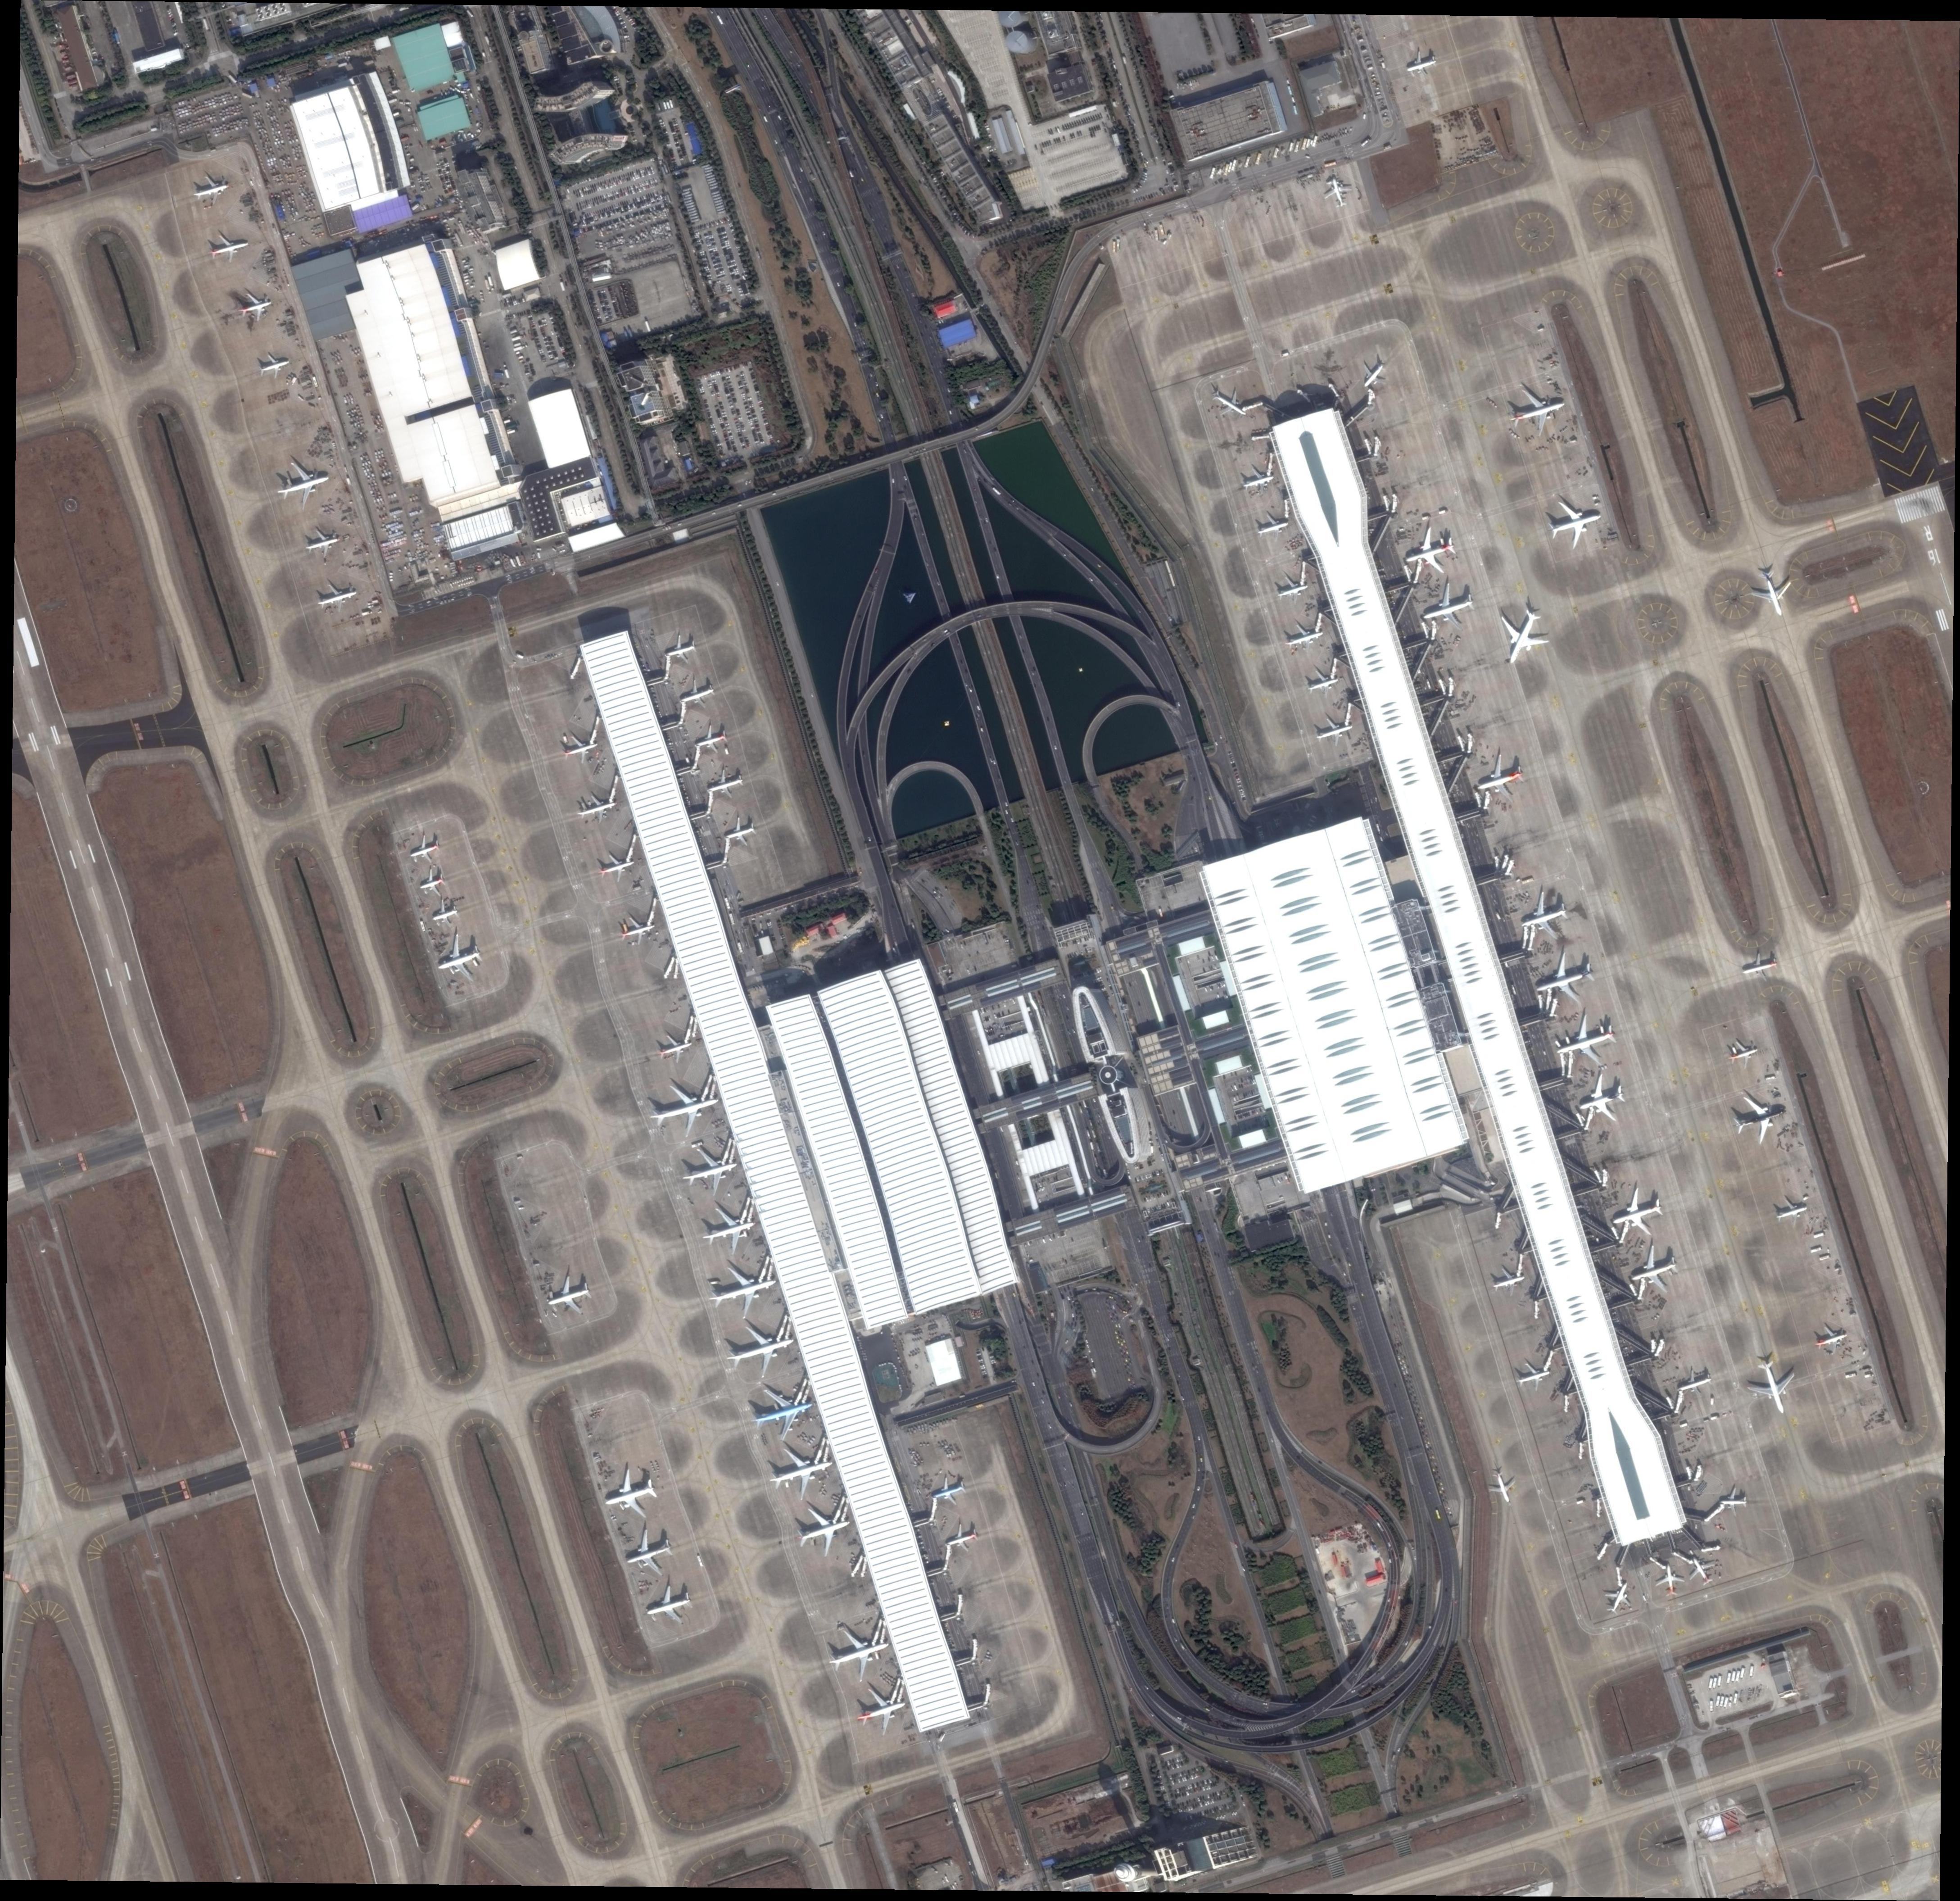plane: (646, 1073, 728, 1145), (1486, 602, 1557, 670), (1554, 1007, 1624, 1075), (1529, 943, 1601, 1010), (747, 1381, 821, 1446), (709, 1260, 784, 1323), (824, 1623, 896, 1687), (765, 1442, 838, 1505), (726, 1320, 800, 1383), (1496, 380, 1570, 441), (598, 1463, 667, 1528), (1538, 494, 1608, 555), (269, 453, 336, 516), (677, 1141, 745, 1201), (793, 1500, 856, 1563), (1571, 1070, 1633, 1134), (1398, 522, 1463, 581), (1741, 1355, 1804, 1414), (698, 1203, 763, 1260), (1626, 1239, 1685, 1301), (1608, 1182, 1669, 1241), (1515, 887, 1577, 947), (852, 1684, 912, 1743), (1472, 749, 1528, 810), (1417, 581, 1479, 635), (623, 1526, 679, 1584), (432, 931, 488, 986), (1727, 1096, 1783, 1148), (1745, 565, 1797, 620), (542, 1269, 597, 1320), (644, 1582, 700, 1631), (1204, 378, 1253, 425), (311, 578, 362, 621), (205, 228, 254, 271), (572, 786, 623, 828), (189, 170, 234, 214), (593, 847, 640, 889), (558, 730, 605, 772), (303, 523, 346, 567), (1769, 1189, 1811, 1234), (1596, 1581, 1640, 1623), (618, 910, 663, 950), (653, 1026, 696, 1066), (402, 830, 446, 870), (1482, 1465, 1522, 1507), (1809, 1320, 1850, 1362), (1353, 352, 1395, 392), (236, 285, 275, 329), (1722, 1035, 1762, 1075), (691, 719, 731, 758), (941, 1519, 982, 1558), (1514, 1360, 1554, 1399), (1683, 1549, 1724, 1588), (677, 677, 719, 714), (1304, 665, 1346, 702), (926, 1474, 969, 1509), (1283, 621, 1326, 656), (1312, 716, 1358, 749), (1255, 508, 1293, 546), (660, 630, 700, 667), (705, 767, 745, 803), (1274, 571, 1314, 607), (1739, 949, 1780, 986), (1402, 46, 1442, 82), (1487, 1266, 1528, 1302), (1652, 1560, 1689, 1600), (1675, 1365, 1717, 1400), (721, 814, 759, 849), (255, 350, 294, 385), (1319, 175, 1356, 210), (429, 898, 464, 933), (1241, 464, 1276, 499), (418, 866, 453, 900), (1718, 1486, 1750, 1519)
